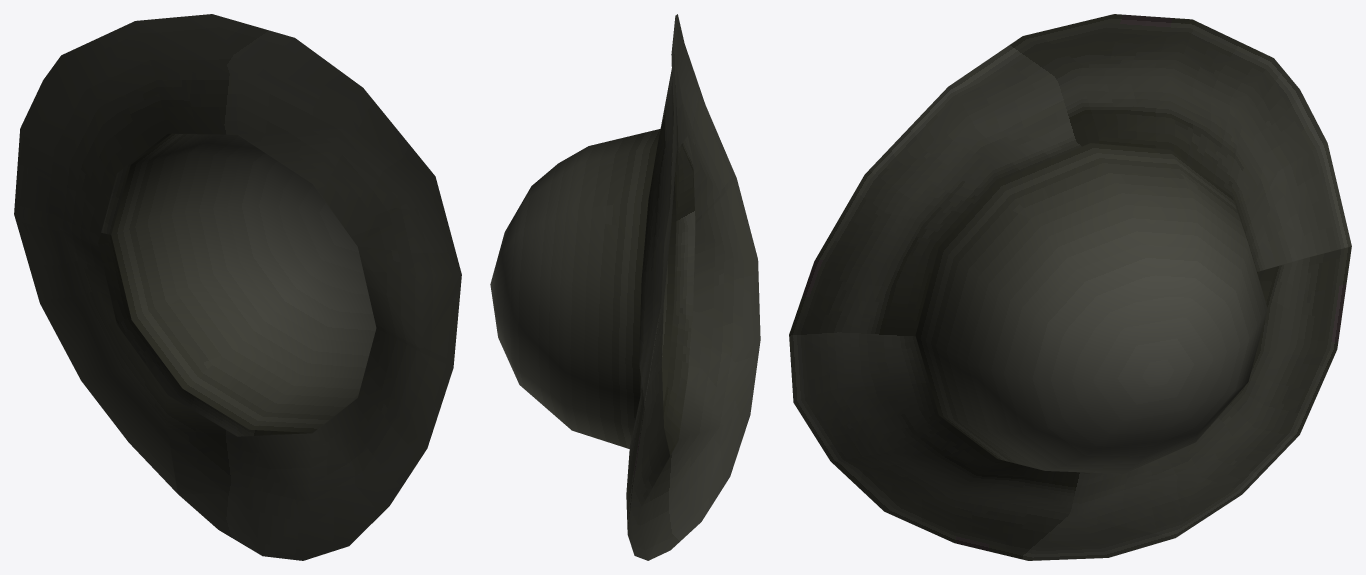
File: cap_actress.dae
3 renders of one model, left to right at view 1: azimuth 30°, elevation 25°; view 2: azimuth 150°, elevation 25°; view 3: azimuth 270°, elevation 25°, orthographic. The views are drawn at different scales.
Visible parts, largest first — view 1: cap_actress; view 2: cap_actress; view 3: cap_actress.
Part boxes in pixels (left/top/right/bottom): cap_actress: left=14, top=14, right=461, bottom=560; cap_actress: left=490, top=14, right=760, bottom=560; cap_actress: left=789, top=14, right=1351, bottom=560.
Size of the model in its own units: 19.62 by 36.05 by 33.92.
1 material, 1 textured.
